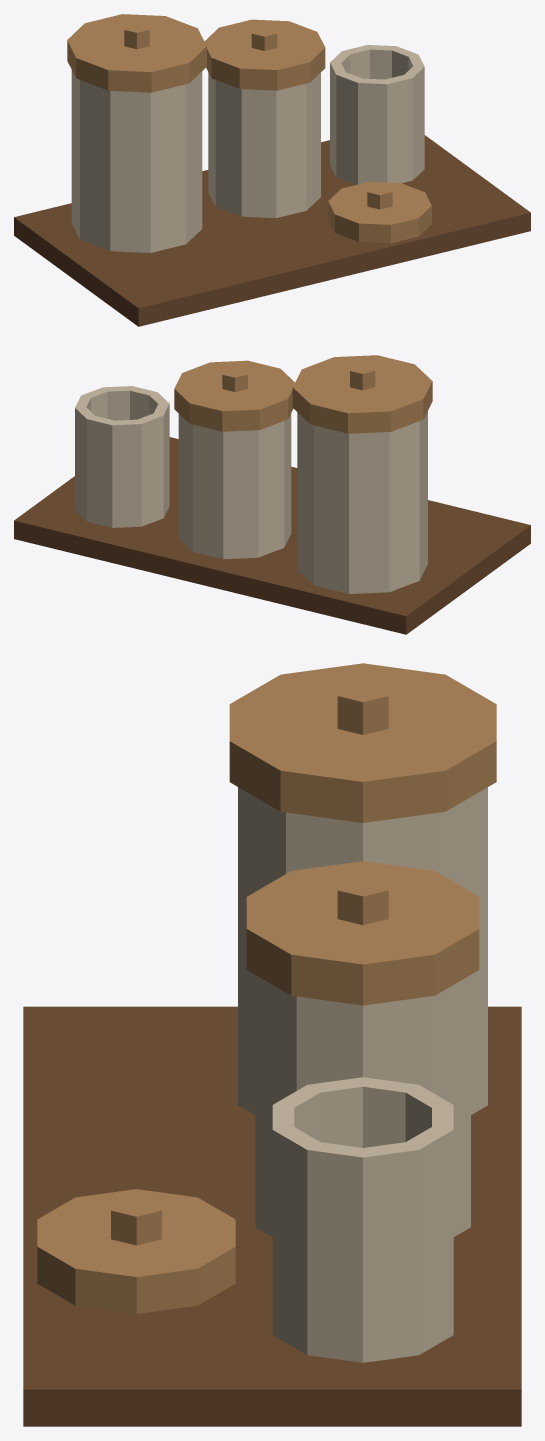
Rendered from FN_Canister_Set.obj.
The picture shows the model from 3 angles, top to bottom: view 1: azimuth 30°, elevation 25°; view 2: azimuth 150°, elevation 25°; view 3: azimuth 270°, elevation 25°; orthographic projection. The views are drawn at different scales.
Parts seen in each view (by area): view 1: FN_Canister_Set; view 2: FN_Canister_Set; view 3: FN_Canister_Set.
Boxes of the visible parts, x1,y1,x2,y2 form: FN_Canister_Set: (14, 14, 530, 326); FN_Canister_Set: (14, 355, 530, 634); FN_Canister_Set: (23, 663, 521, 1426).
Bounding box in the file's own units: 0.4 × 0.212 × 0.22.
1 material, 1 textured.
